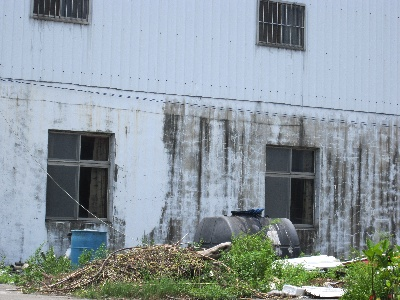bucket: (195, 210, 302, 257), (67, 226, 109, 278)
